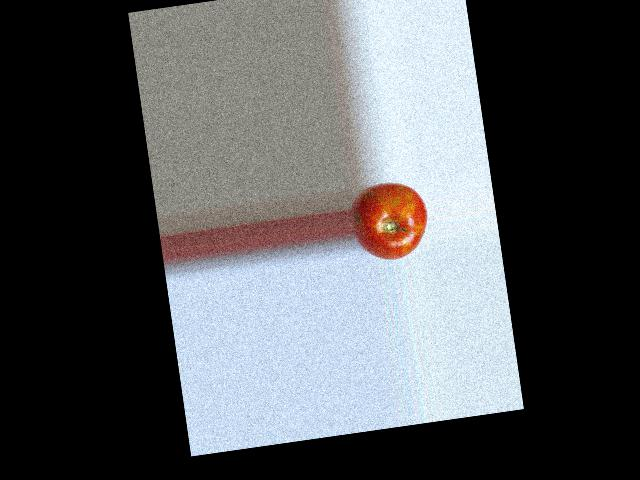tomato: (348, 177, 432, 264)
